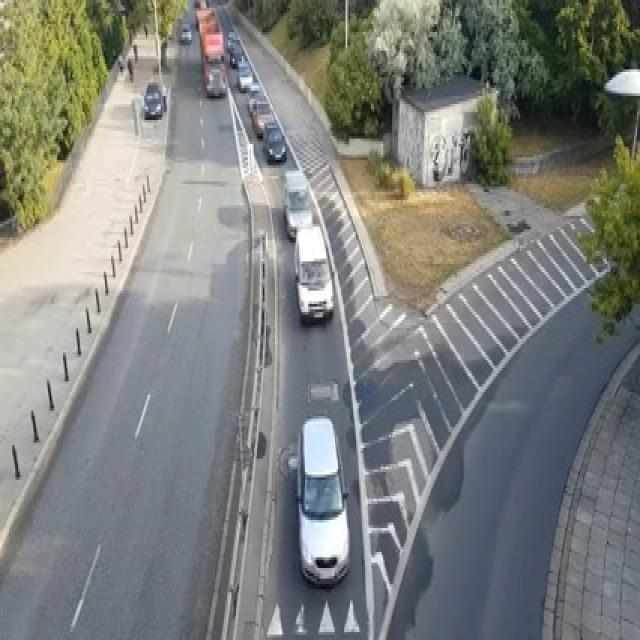car: (288, 413, 350, 587), (293, 224, 333, 323), (282, 168, 312, 240), (262, 120, 286, 163), (251, 99, 275, 136), (142, 80, 164, 117), (203, 59, 225, 96), (246, 82, 263, 114), (236, 58, 252, 90), (179, 21, 192, 43), (161, 83, 167, 109)
